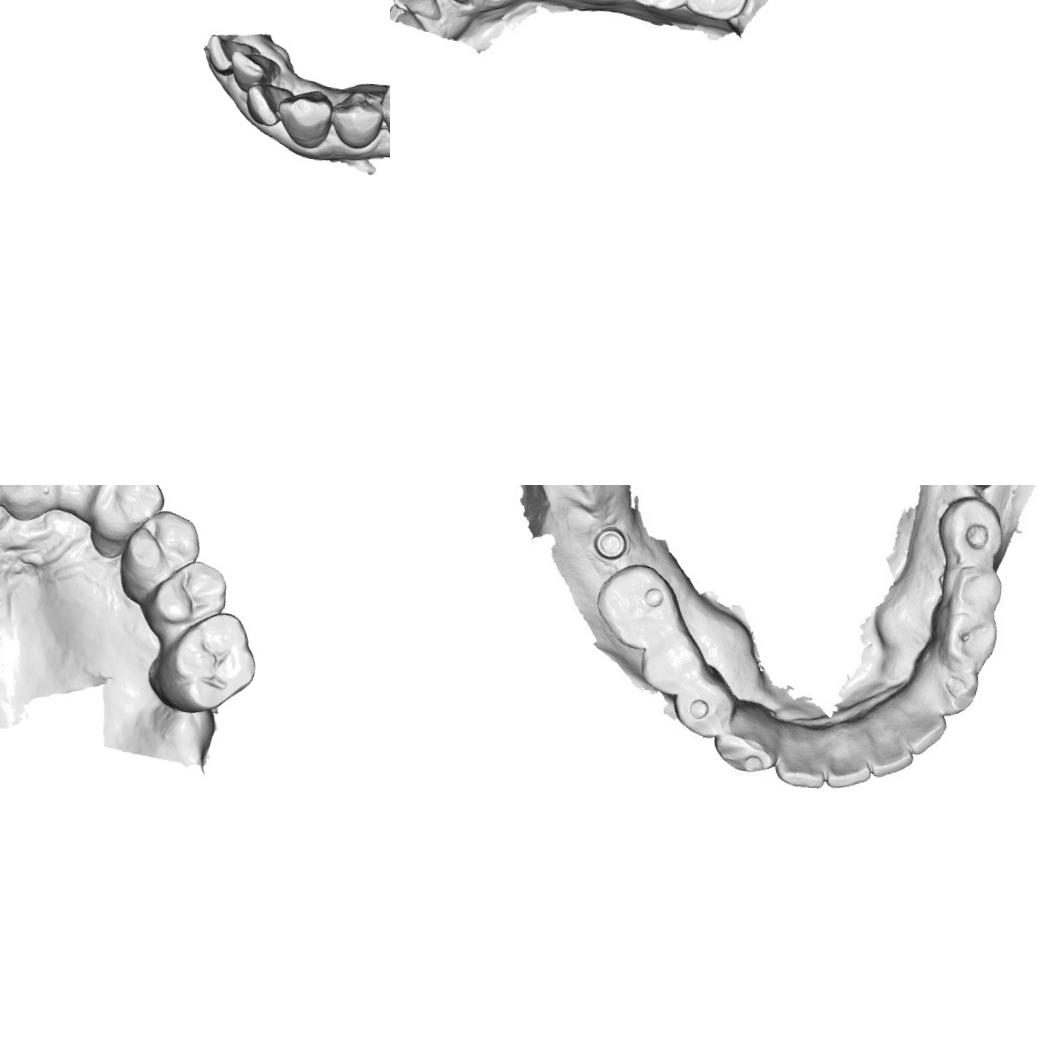canine: (86, 485, 167, 546), (711, 714, 780, 776), (273, 86, 335, 150), (921, 656, 978, 710)
implant: (594, 522, 626, 558)
incisor: (770, 724, 830, 795), (241, 76, 297, 136), (891, 698, 944, 752), (864, 723, 914, 779), (820, 735, 872, 787), (226, 37, 276, 87), (202, 28, 254, 75), (390, 0, 443, 25)
molar: (161, 607, 260, 717), (593, 561, 679, 652), (943, 498, 1004, 568), (687, 0, 750, 21), (622, 0, 692, 12)
premolar: (120, 506, 204, 587), (144, 554, 229, 634), (327, 82, 390, 151), (940, 611, 1002, 676), (640, 633, 704, 694), (675, 674, 732, 737), (943, 564, 1000, 621), (375, 74, 390, 146)
